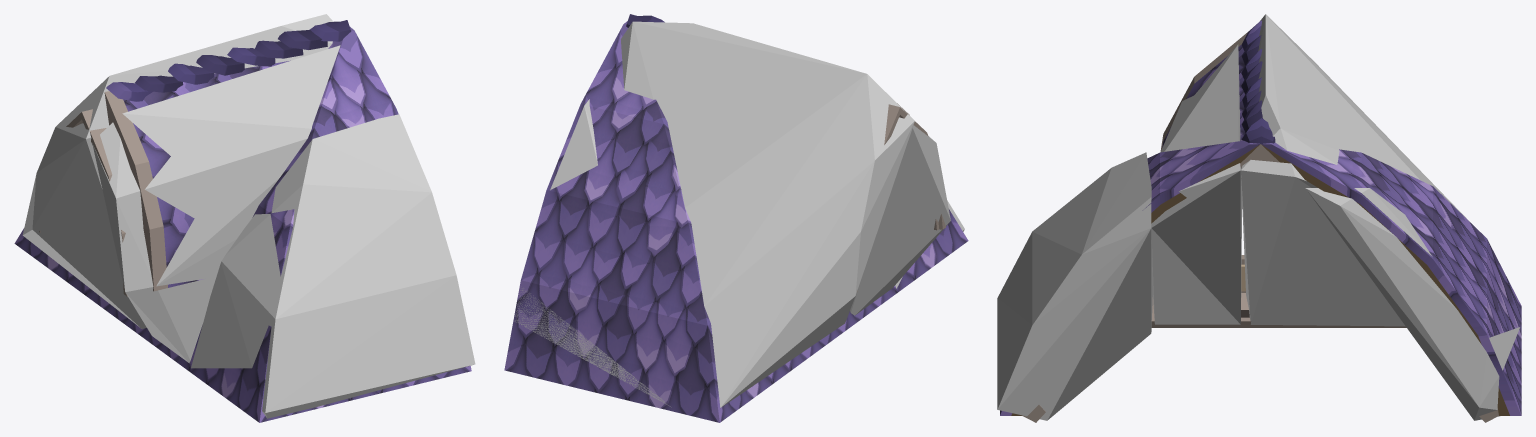
The model's file is SM_Bld_Roof_Convex_Corner_Window_01.fbx.
The picture shows the model from 3 angles, left to right: view 1: azimuth 30°, elevation 25°; view 2: azimuth 150°, elevation 25°; view 3: azimuth 270°, elevation 25°; orthographic projection. The views are drawn at different scales.
Parts seen in each view (by area): view 1: SM_Bld_Roof_Convex_Corner_Window_01_ConvexHulls, SM_Bld_Roof_Convex_Corner_Window_01; view 2: SM_Bld_Roof_Convex_Corner_Window_01_ConvexHulls, SM_Bld_Roof_Convex_Corner_Window_01; view 3: SM_Bld_Roof_Convex_Corner_Window_01_ConvexHulls, SM_Bld_Roof_Convex_Corner_Window_01.
Part boxes in pixels (x1,y1,x2,y2): SM_Bld_Roof_Convex_Corner_Window_01_ConvexHulls: (22,14,475,418); SM_Bld_Roof_Convex_Corner_Window_01: (14,20,471,422); SM_Bld_Roof_Convex_Corner_Window_01_ConvexHulls: (514,21,964,407); SM_Bld_Roof_Convex_Corner_Window_01: (504,14,968,422); SM_Bld_Roof_Convex_Corner_Window_01_ConvexHulls: (997,14,1519,420); SM_Bld_Roof_Convex_Corner_Window_01: (1000,20,1521,422).
Bounding box in the file's own units: 342 × 525 × 332.
4 materials, 3 textured.
